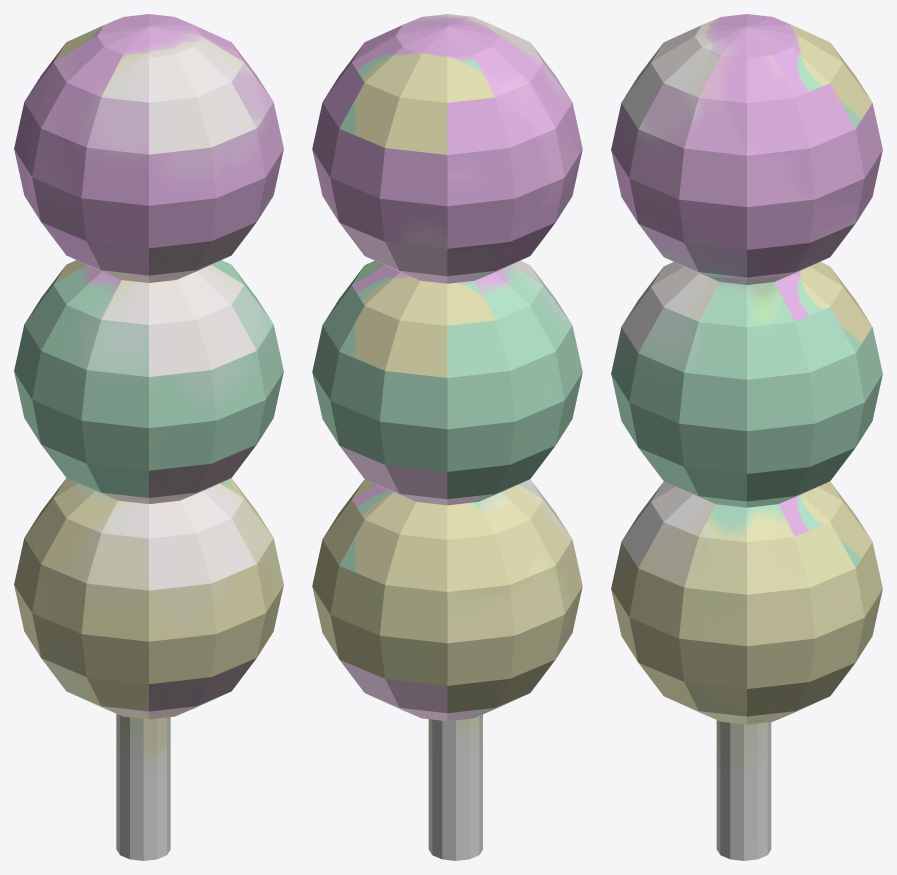
The model's file is mochi.glb.
3 renders of one model, left to right at view 1: azimuth 30°, elevation 25°; view 2: azimuth 150°, elevation 25°; view 3: azimuth 270°, elevation 25°, orthographic.
Parts seen in each view (by area): view 1: geom; view 2: geom; view 3: geom.
Boxes of the visible parts, bbox=[...] form: geom: bbox=[14, 14, 283, 860]; geom: bbox=[312, 14, 582, 860]; geom: bbox=[611, 14, 882, 860].
Size of the model in its own units: 0.9662 by 3.24 by 0.9662.
Materials: 1 (1 with a texture image).
